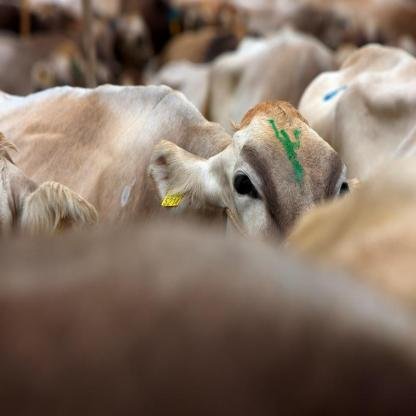cow: (0, 82, 362, 250), (0, 130, 99, 250)
